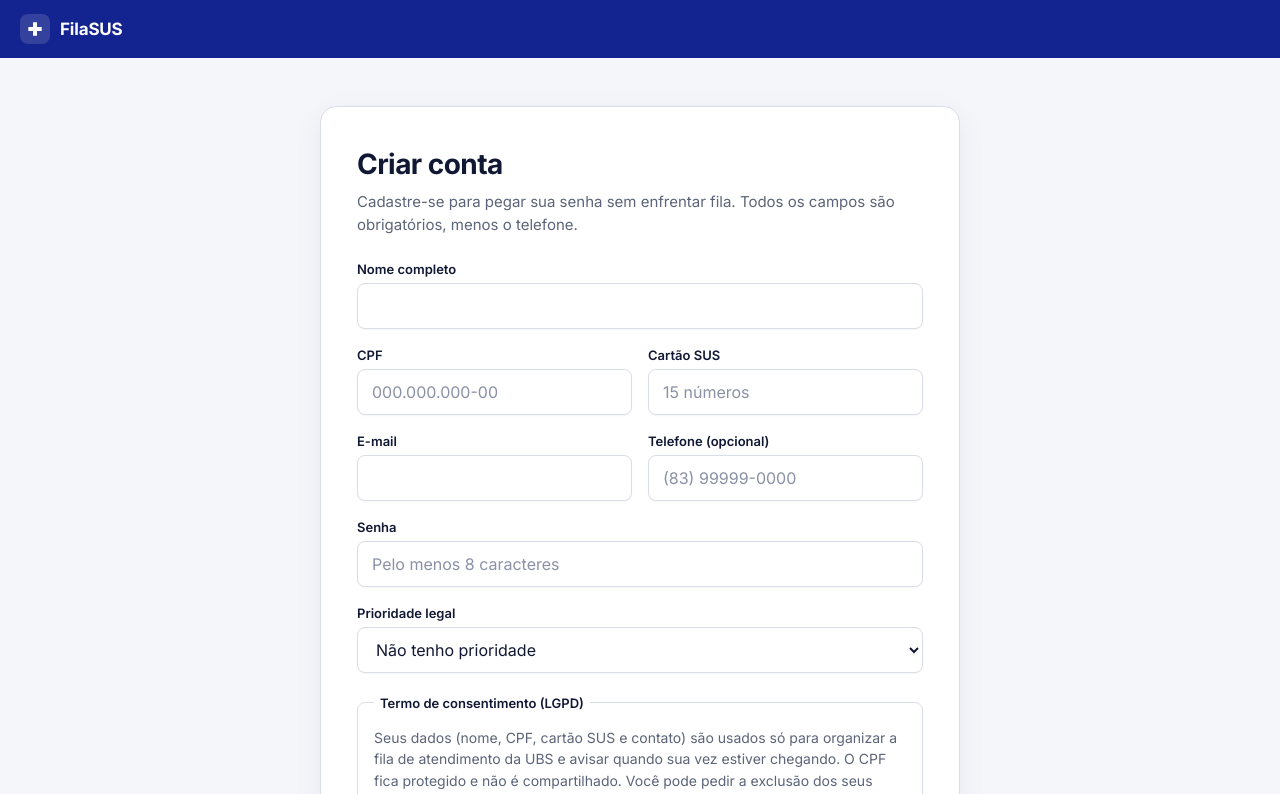
Test: US04 - Autocadastro do paciente com consentimento › CT-US04-01 - Cadastro com sucesso › cria a conta e mostra o aceite registrado com data e hora
Type "Maria da Silva" into the field labelled "Nome completo".
click(640, 306); type("Maria da Silva")  # box left=357, top=282, right=923, bottom=328
Type "529.982.247-25" into the field labelled "CPF".
click(494, 392); type("529.982.247-25")  # box left=357, top=368, right=632, bottom=414
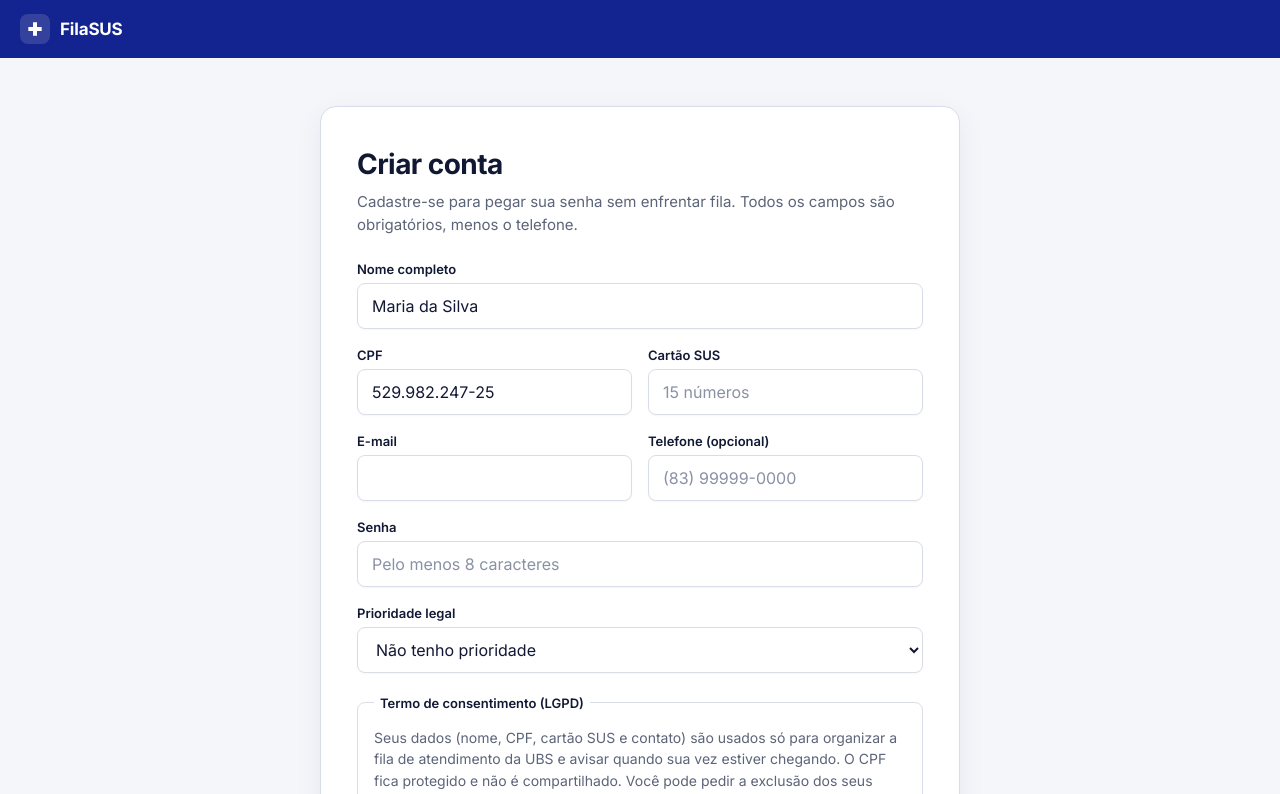
Type "898001234567890" into the field labelled "Cartão SUS".
click(786, 392); type("898001234567890")  # box left=648, top=368, right=923, bottom=414
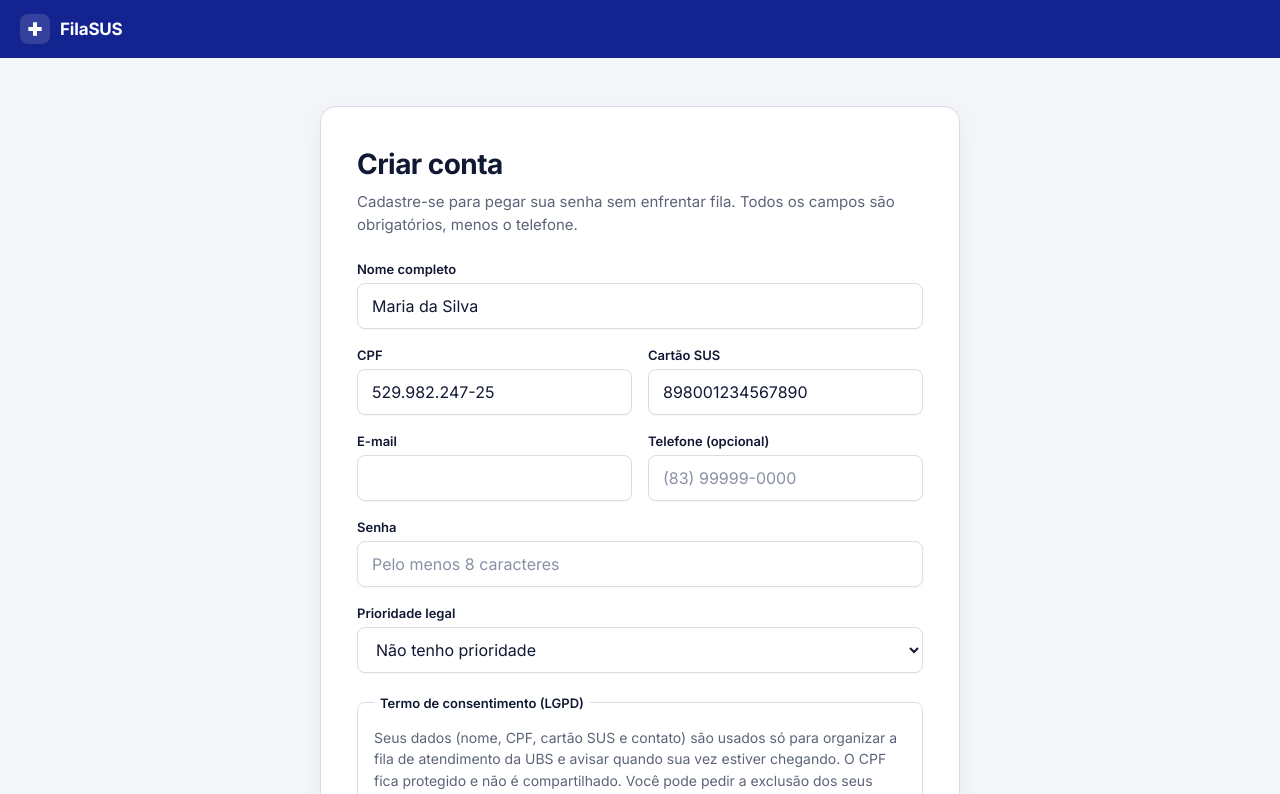
Type "maria@email.com" into the field labelled "E-mail".
click(494, 478); type("maria@email.com")  # box left=357, top=454, right=632, bottom=500
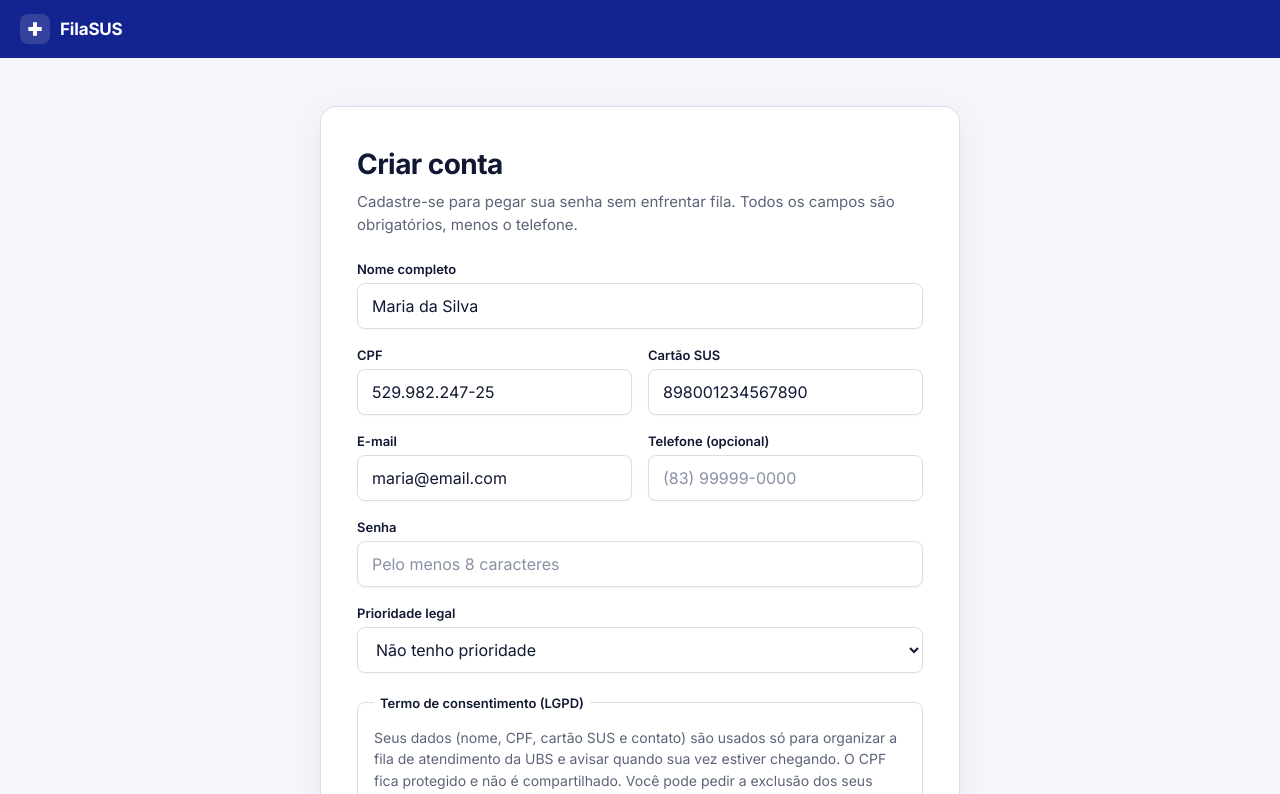
Type "senhaForte123" into the password field labelled "Senha".
click(640, 564); type("senhaForte123")  # box left=357, top=540, right=923, bottom=586
(page scrolled)
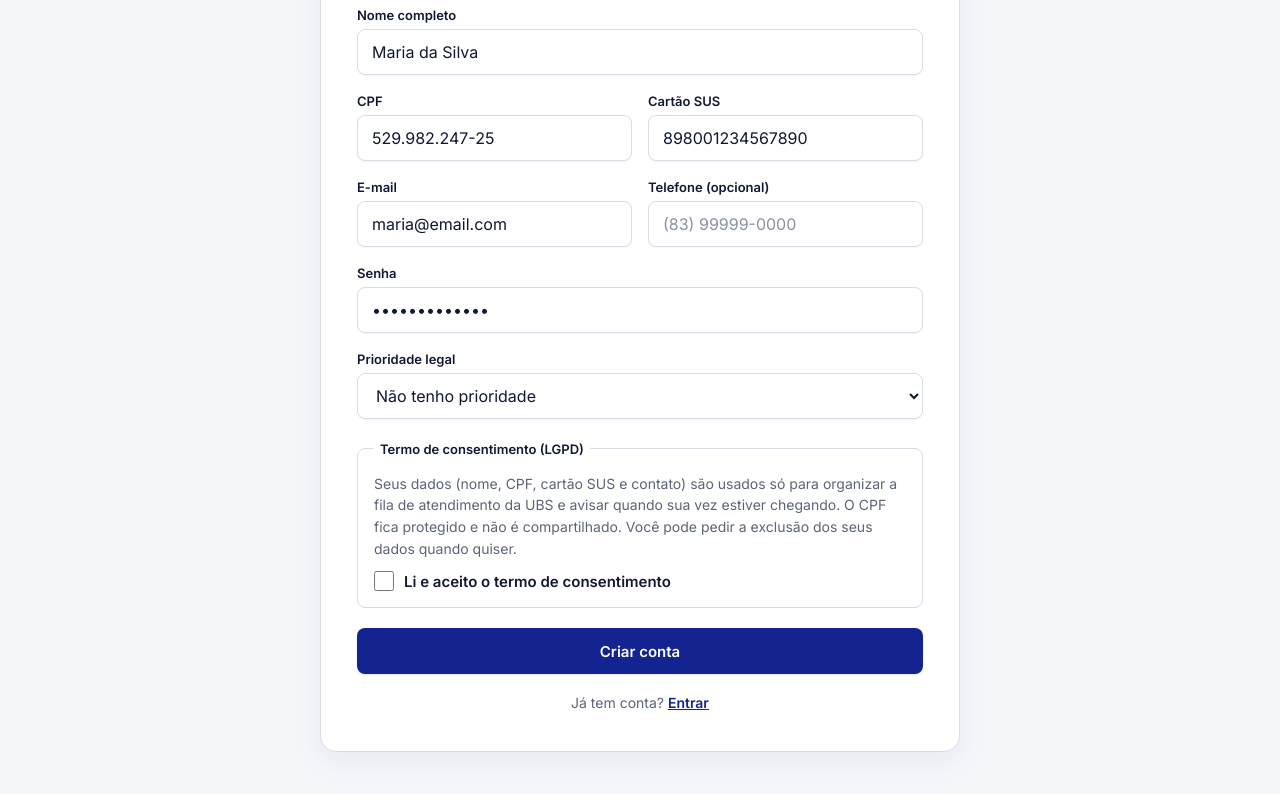
Click the checkbox labelled "Li e aceito o termo de consentimento".
click(384, 581)  # box left=374, top=571, right=394, bottom=591
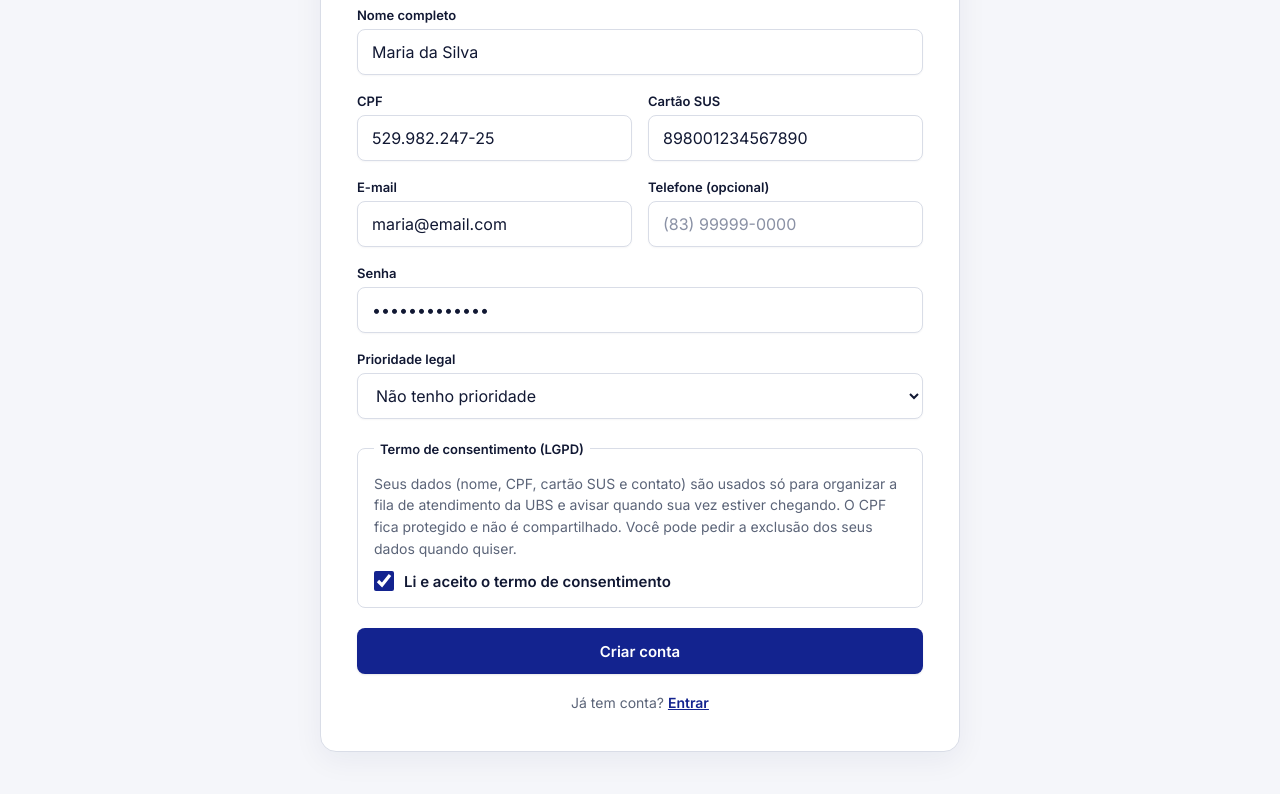
Click the button "Criar conta".
click(640, 651)  # box left=357, top=628, right=923, bottom=674
(page scrolled)
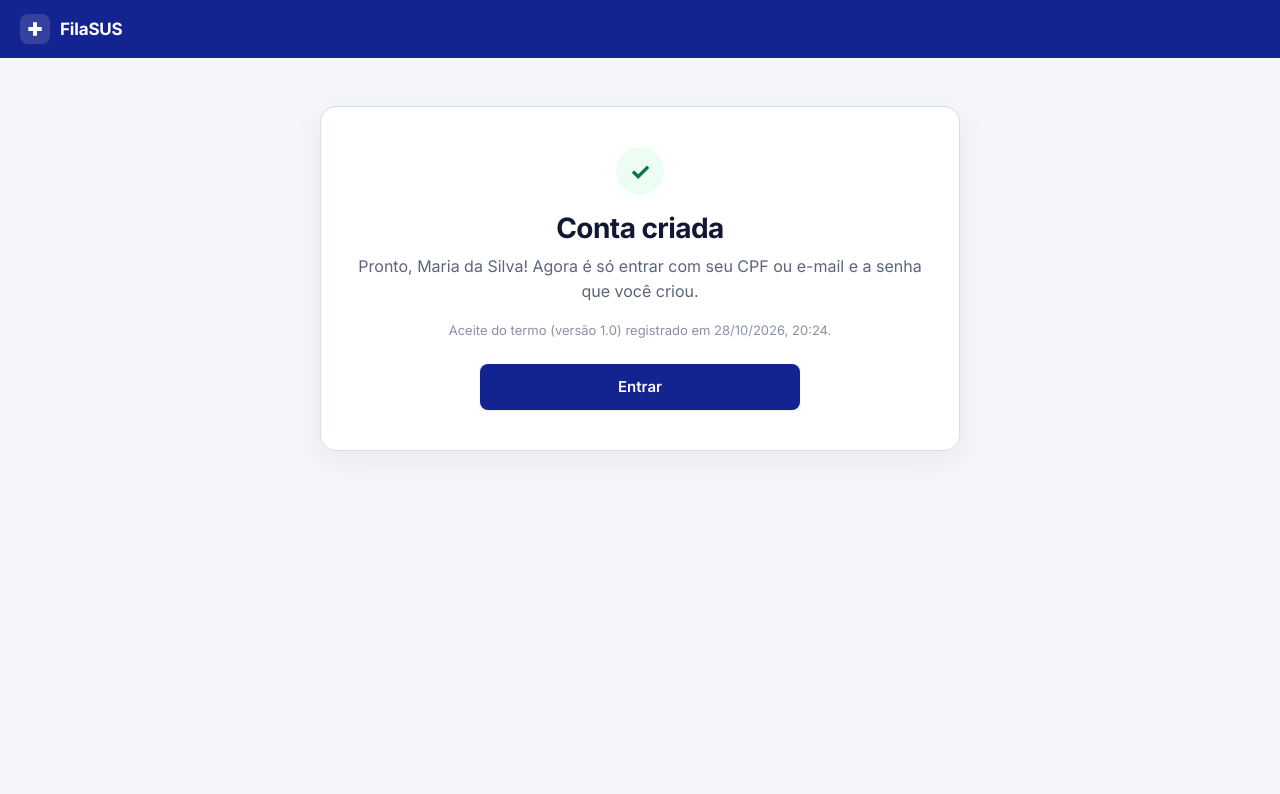
Now the heading "Conta criada" is shown, box left=556, top=211, right=724, bottom=246
